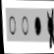correct: (32, 14, 42, 37)
not correct: (44, 5, 54, 50)
